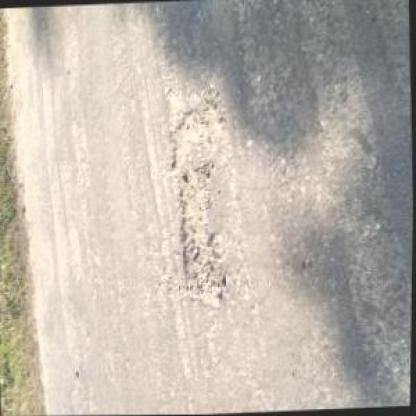pothole: (165, 104, 232, 312)
